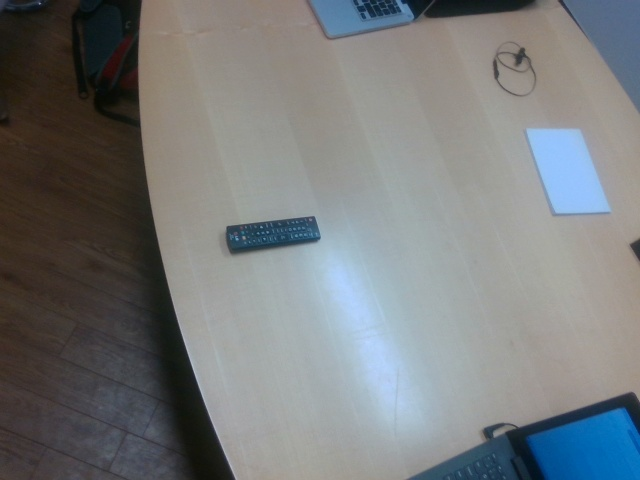remote: (224, 214, 320, 253)
